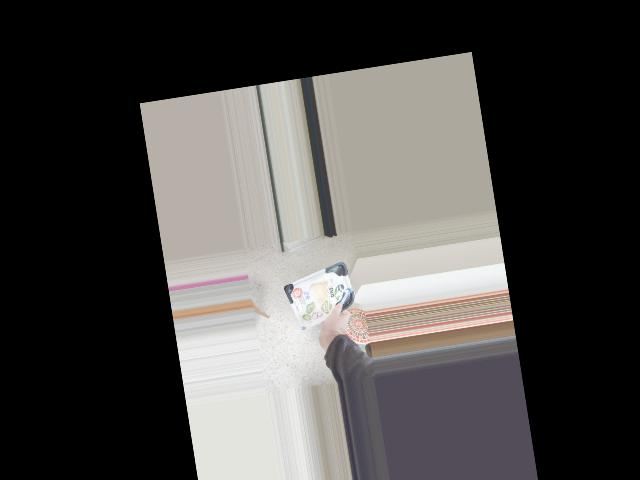cheese: (284, 260, 359, 331)
